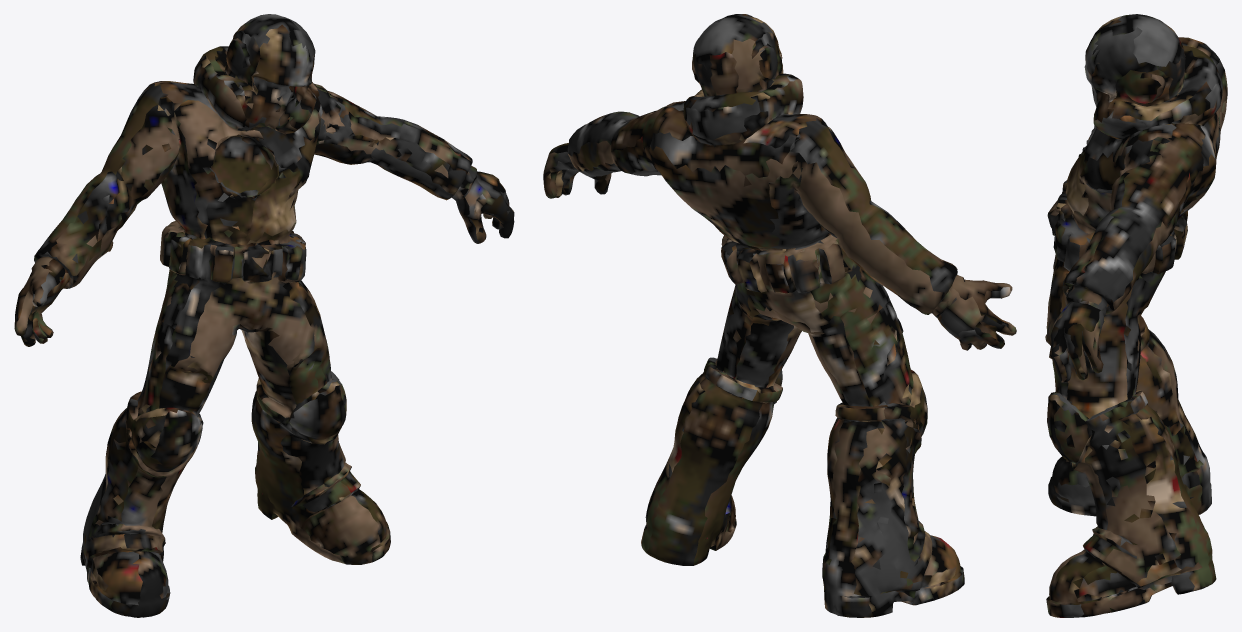
The model's file is POSSH0.obj.
The picture shows the model from 3 angles, left to right: view 1: azimuth 30°, elevation 25°; view 2: azimuth 150°, elevation 25°; view 3: azimuth 270°, elevation 25°; orthographic projection. The views are drawn at different scales.
Bounding box in the file's own units: 0.9332 × 1 × 0.2936.
1 material, 1 textured.
